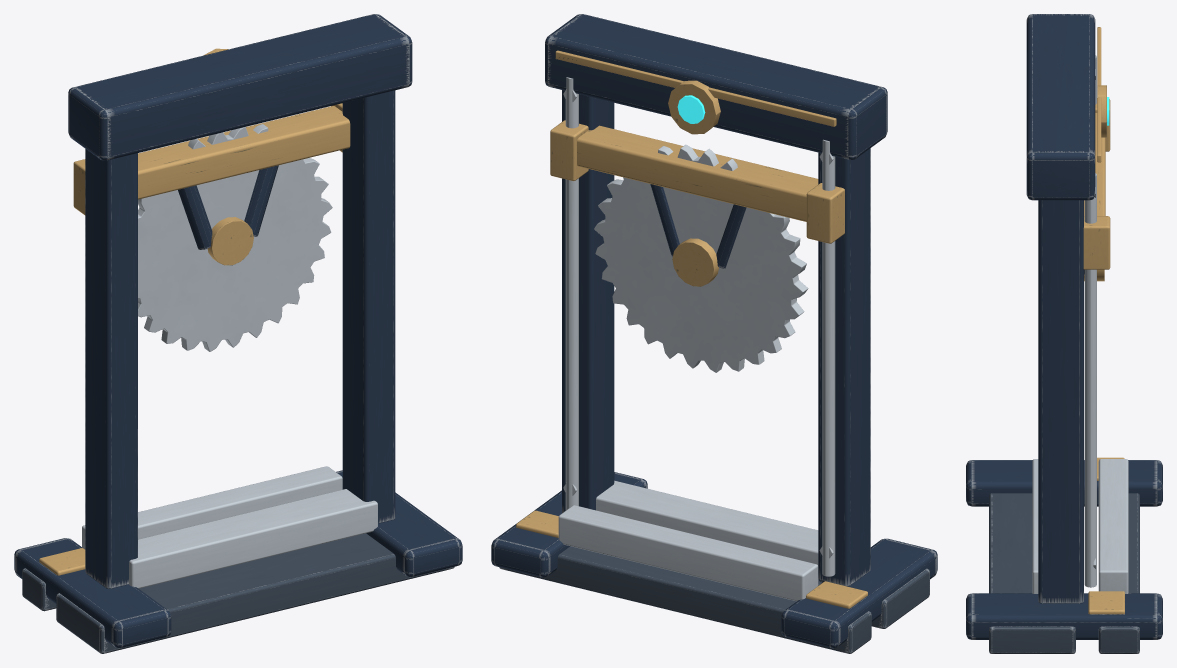
File: guillotine_saw.glb
3 views of the same model, side by side, from view 1: azimuth 30°, elevation 25°; view 2: azimuth 150°, elevation 25°; view 3: azimuth 270°, elevation 25° (orthographic). The views are drawn at different scales.
Parts seen in each view (by area): view 1: v2_guillotine_saw__crown, v2_guillotine_saw__descending_saw, v2_guillotine_saw__column_neg1, v2_guillotine_saw__column_1, v2_guillotine_saw__ground_rear, v2_guillotine_saw__anvil_rear, v2_guillotine_saw__carriage, v2_guillotine_saw__foot_neg1, v2_guillotine_saw__anvil_front, v2_guillotine_saw__foot_1, v2_guillotine_saw__descending_saw_hub, v2_guillotine_saw__saw_fork_L (+4 smaller); view 2: v2_guillotine_saw__descending_saw, v2_guillotine_saw__crown, v2_guillotine_saw__column_neg1, v2_guillotine_saw__column_1, v2_guillotine_saw__anvil_front, v2_guillotine_saw__ground_front, v2_guillotine_saw__carriage, v2_guillotine_saw__anvil_rear, v2_guillotine_saw__foot_neg1, v2_guillotine_saw__guide_neg1, v2_guillotine_saw__guide_1, v2_guillotine_saw__foot_1 (+10 smaller); view 3: v2_guillotine_saw__column_1, v2_guillotine_saw__crown, v2_guillotine_saw__ground_rear, v2_guillotine_saw__foot_1, v2_guillotine_saw__guide_1, v2_guillotine_saw__foot_neg1, v2_guillotine_saw__anvil_front, v2_guillotine_saw__ground_front, v2_guillotine_saw__runner_1, v2_guillotine_saw__anvil_rear, v2_guillotine_saw__foot_trim_1, v2_guillotine_saw__carriage (+2 smaller).
Boxes of the visible parts, left/top/right/bottom form: v2_guillotine_saw__crown: left=68, top=14, right=412, bottom=160; v2_guillotine_saw__descending_saw: left=138, top=124, right=332, bottom=351; v2_guillotine_saw__column_neg1: left=85, top=149, right=137, bottom=588; v2_guillotine_saw__column_1: left=342, top=90, right=395, bottom=523; v2_guillotine_saw__ground_rear: left=56, top=533, right=454, bottom=653; v2_guillotine_saw__anvil_rear: left=129, top=489, right=377, bottom=588; v2_guillotine_saw__carriage: left=138, top=106, right=350, bottom=199; v2_guillotine_saw__foot_neg1: left=14, top=538, right=171, bottom=647; v2_guillotine_saw__anvil_front: left=82, top=466, right=342, bottom=549; v2_guillotine_saw__foot_1: left=336, top=470, right=462, bottom=576; v2_guillotine_saw__descending_saw_hub: left=207, top=217, right=253, bottom=265; v2_guillotine_saw__saw_fork_L: left=178, top=185, right=212, bottom=249; v2_guillotine_saw__descending_saw: left=594, top=144, right=808, bottom=372; v2_guillotine_saw__crown: left=545, top=14, right=887, bottom=159; v2_guillotine_saw__column_neg1: left=818, top=148, right=870, bottom=586; v2_guillotine_saw__column_1: left=562, top=90, right=614, bottom=512; v2_guillotine_saw__anvil_front: left=558, top=505, right=818, bottom=601; v2_guillotine_saw__ground_front: left=499, top=546, right=871, bottom=653; v2_guillotine_saw__carriage: left=577, top=125, right=818, bottom=221; v2_guillotine_saw__anvil_rear: left=596, top=480, right=818, bottom=565; v2_guillotine_saw__foot_neg1: left=781, top=538, right=937, bottom=648; v2_guillotine_saw__guide_neg1: left=822, top=139, right=835, bottom=576; v2_guillotine_saw__guide_1: left=565, top=77, right=578, bottom=510; v2_guillotine_saw__foot_1: left=491, top=472, right=647, bottom=577; v2_guillotine_saw__column_1: left=1038, top=200, right=1083, bottom=603; v2_guillotine_saw__crown: left=1026, top=14, right=1095, bottom=200; v2_guillotine_saw__ground_rear: left=989, top=493, right=1075, bottom=653; v2_guillotine_saw__foot_1: left=966, top=593, right=1162, bottom=639; v2_guillotine_saw__guide_1: left=1084, top=173, right=1096, bottom=587; v2_guillotine_saw__foot_neg1: left=966, top=460, right=1162, bottom=506; v2_guillotine_saw__anvil_front: left=1098, top=459, right=1128, bottom=593; v2_guillotine_saw__ground_front: left=1098, top=493, right=1139, bottom=653; v2_guillotine_saw__runner_1: left=1083, top=216, right=1110, bottom=269; v2_guillotine_saw__anvil_rear: left=1032, top=459, right=1038, bottom=593; v2_guillotine_saw__foot_trim_1: left=1088, top=591, right=1124, bottom=614; v2_guillotine_saw__carriage: left=1084, top=113, right=1105, bottom=215.
Bounding box in the file's own units: 1.68 × 2.37 × 0.86.
2 materials, 2 textured.
